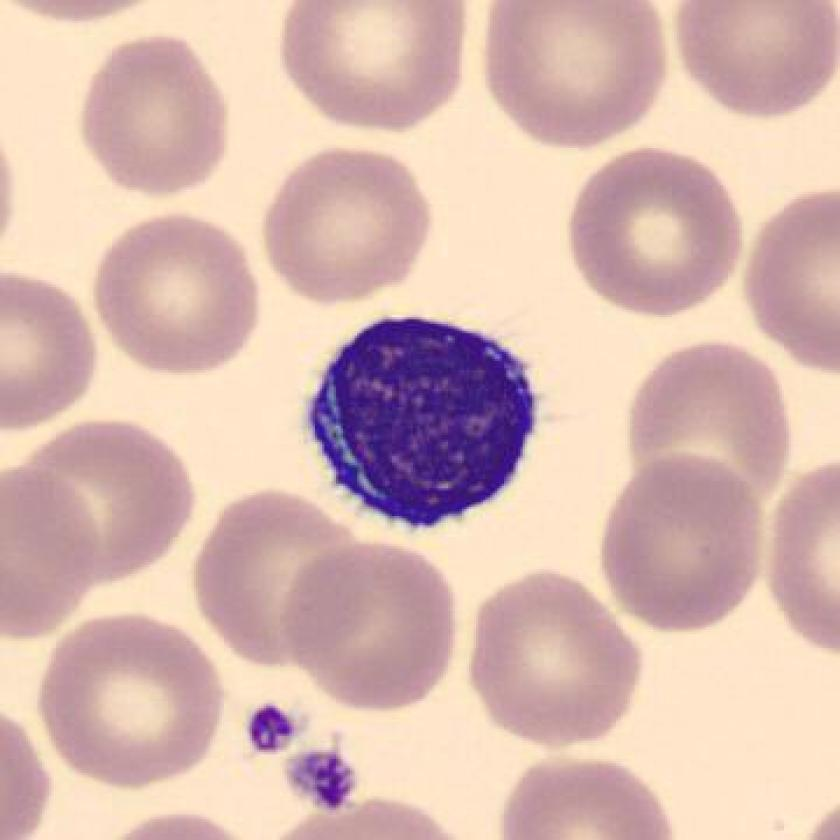lymphocyte: (293, 300, 554, 543)
